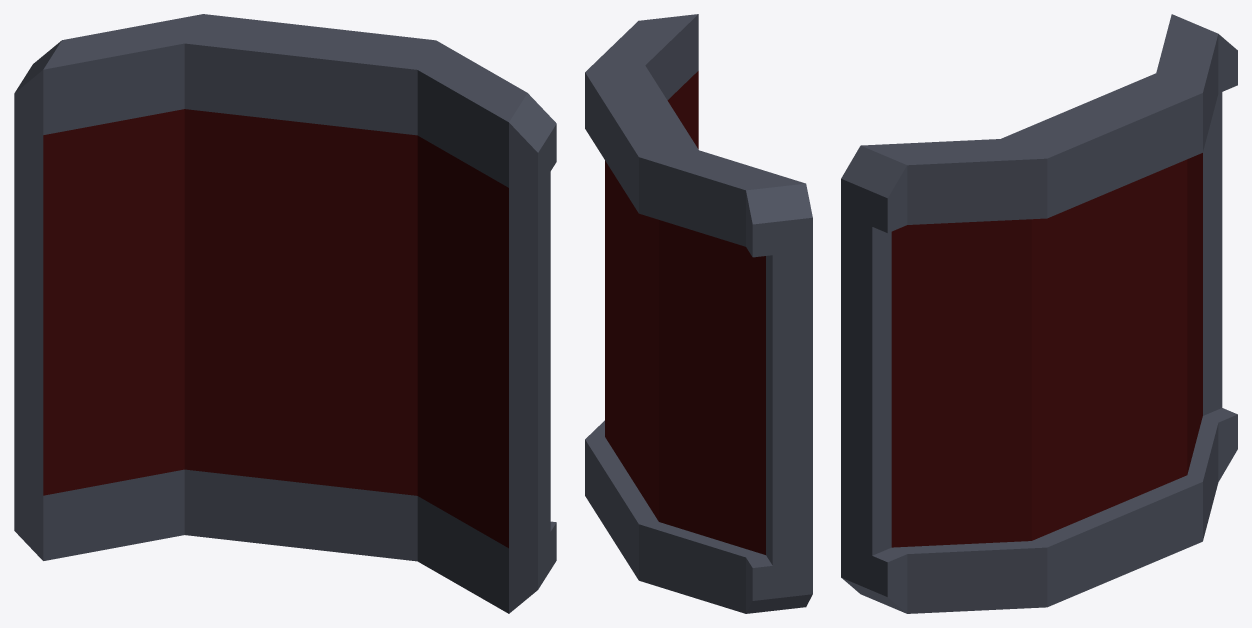
File: shield.obj
3 views of the same model, side by side, from view 1: azimuth 30°, elevation 25°; view 2: azimuth 150°, elevation 25°; view 3: azimuth 270°, elevation 25° (orthographic). The views are drawn at different scales.
Bounding box in the file's own units: 0.9016 × 1.13 × 0.9016.
